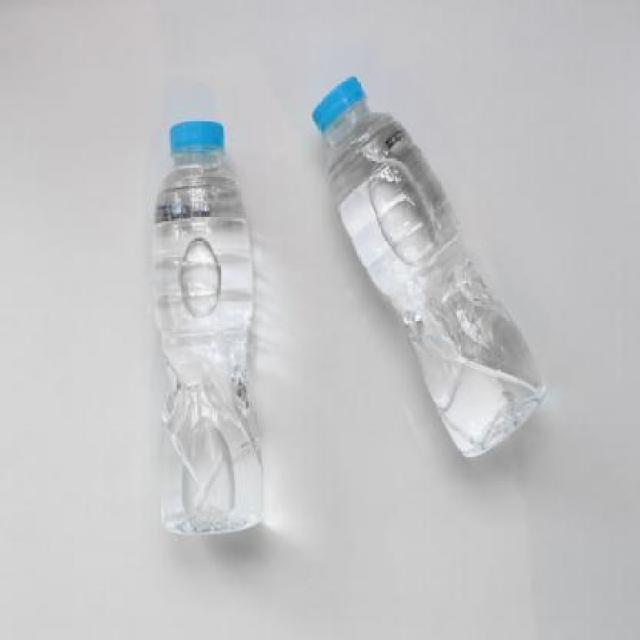bottle: (295, 66, 592, 477), (140, 105, 282, 564)
